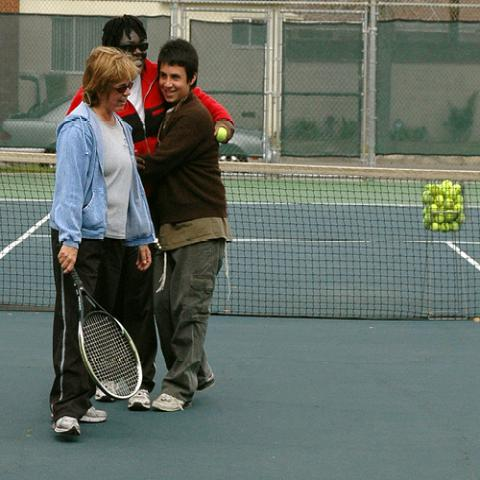car: (0, 100, 263, 160)
